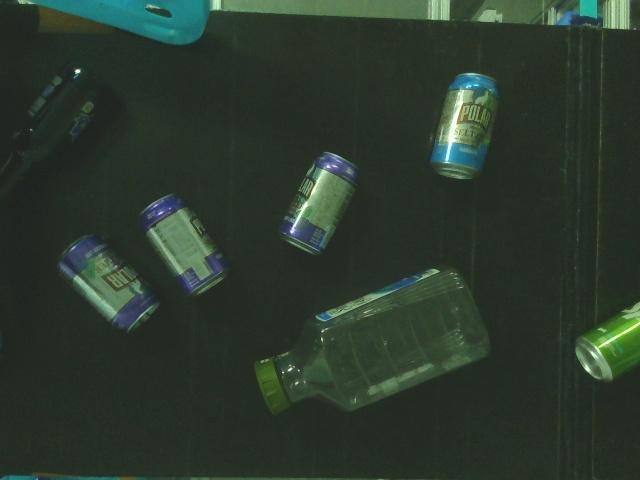glass: (0, 56, 123, 212)
metal: (52, 230, 168, 342), (134, 187, 236, 302), (274, 148, 366, 262), (425, 68, 506, 186), (570, 292, 640, 388)
plastic: (252, 259, 496, 419)
